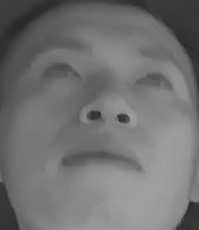eye: (40, 53, 84, 90), (133, 63, 175, 97)
mouth: (60, 132, 146, 182)
